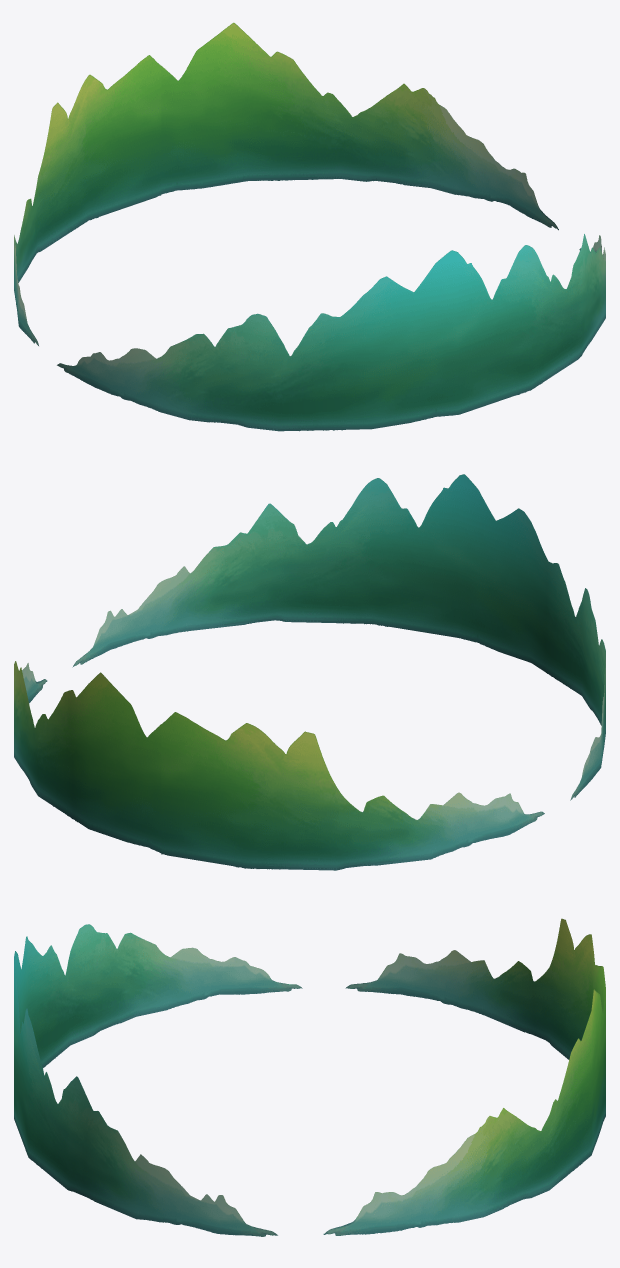
File: cj_shan_tou1.fbx
3 renders of one model, top to bottom at view 1: azimuth 30°, elevation 25°; view 2: azimuth 150°, elevation 25°; view 3: azimuth 270°, elevation 25°, orthographic.
Visible parts, largest first — view 1: shan2, shan1; view 2: shan2, shan1; view 3: shan2, shan1.
Part boxes in pixels (left/top/right/bottom): shan2: left=57, top=234, right=605, bottom=431; shan1: left=14, top=22, right=558, bottom=345; shan2: left=72, top=474, right=605, bottom=800; shan1: left=14, top=661, right=544, bottom=870; shan2: left=14, top=924, right=302, bottom=1236; shan1: left=323, top=918, right=605, bottom=1235.
Size of the model in its own units: 340000 by 112423 by 340000.
